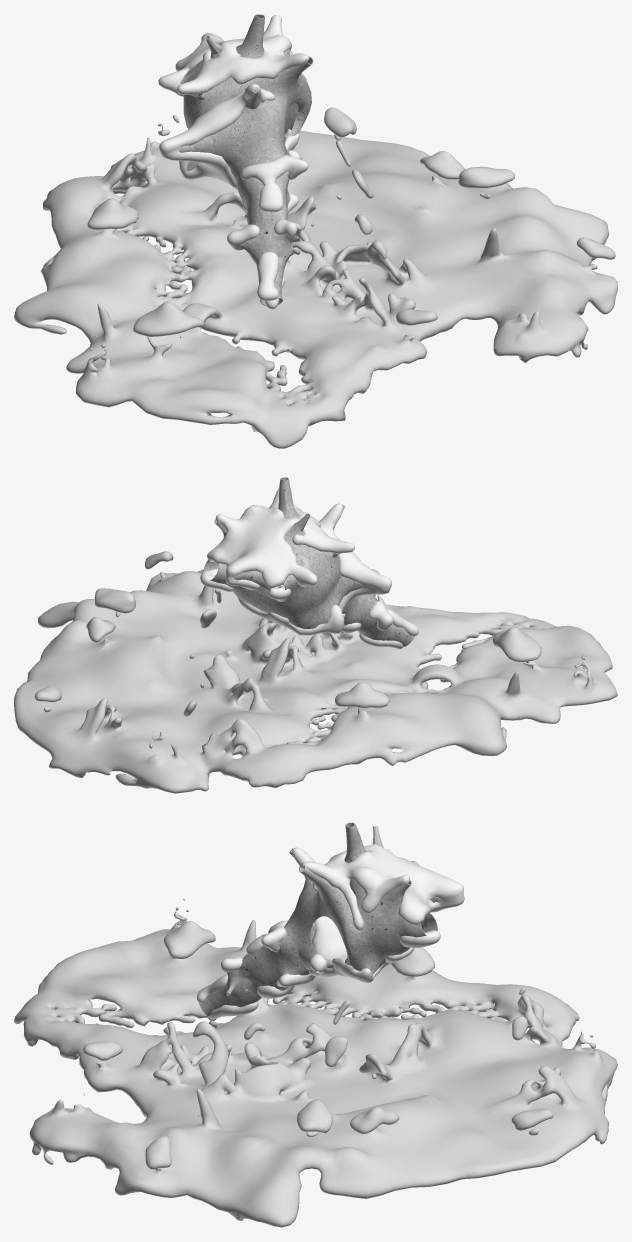
Rendered from dukwold20230204_02.fbx.
3 views of the same model, one above another, from view 1: azimuth 30°, elevation 25°; view 2: azimuth 150°, elevation 25°; view 3: azimuth 270°, elevation 25° (orthographic). The views are drawn at different scales.
Parts seen in each view (by area): view 1: Retopo_SnowBall.001, Snow, SoraCastle_low; view 2: Retopo_SnowBall.001, Snow, SoraCastle_low; view 3: Retopo_SnowBall.001, Snow, SoraCastle_low.
Boxes of the visible parts, left/top/right/bottom form: Retopo_SnowBall.001: left=14, top=107, right=617, bottom=448; Snow: left=158, top=15, right=309, bottom=309; SoraCastle_low: left=176, top=14, right=313, bottom=305; Retopo_SnowBall.001: left=14, top=551, right=617, bottom=793; Snow: left=200, top=488, right=418, bottom=649; SoraCastle_low: left=203, top=477, right=415, bottom=646; Retopo_SnowBall.001: left=14, top=898, right=617, bottom=1227; Snow: left=197, top=844, right=464, bottom=1019; SoraCastle_low: left=198, top=822, right=443, bottom=1016.
Bounding box in the file's own units: 1602 × 715 × 1463.
